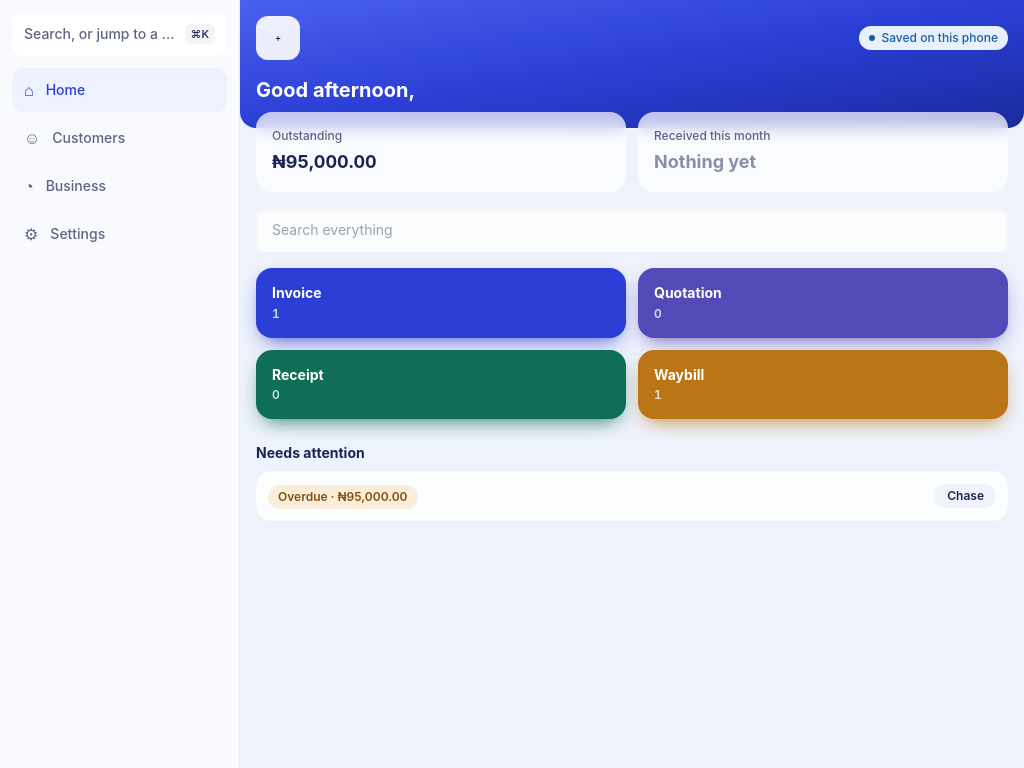
Home search replaces the body with results (§G, §D.3) › offers suggestions that work when nothing matched
Type "zzzz" into the search field labelled "Search everything".
click(632, 230); type("zzzz")  # box [256,208,1008,252]
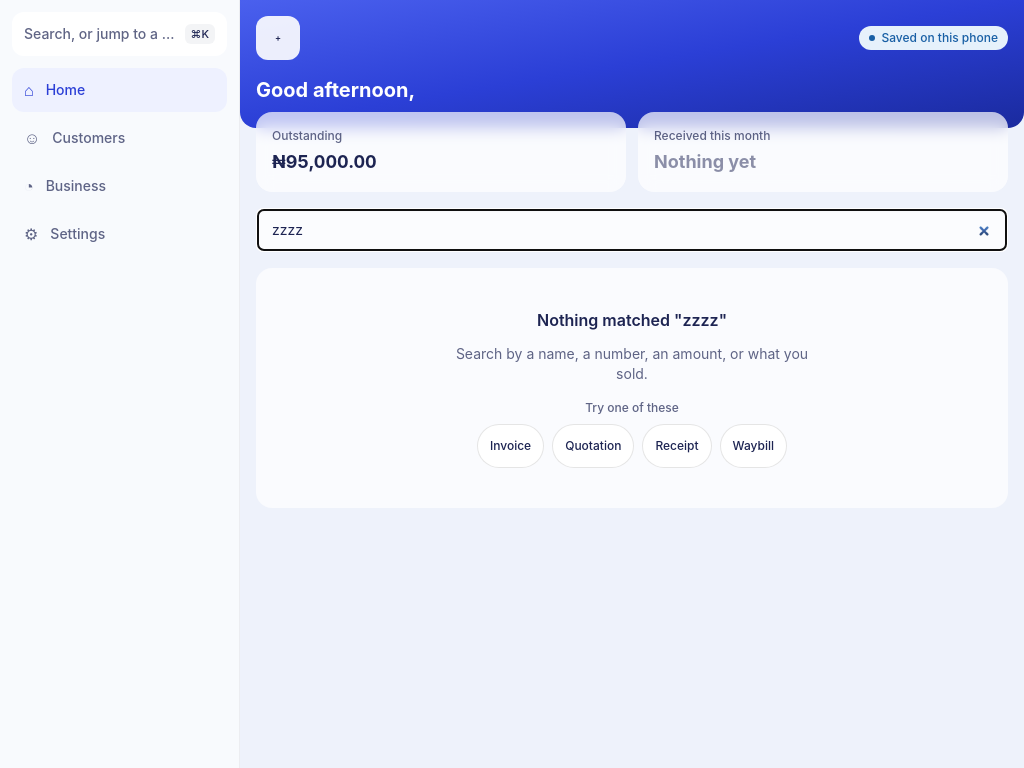
Check: the text "Nothing matched \"zzzz\"" is shown, box [537,308,727,332]
Click the button "Waybill".
click(753, 446)  # box [720,424,787,468]
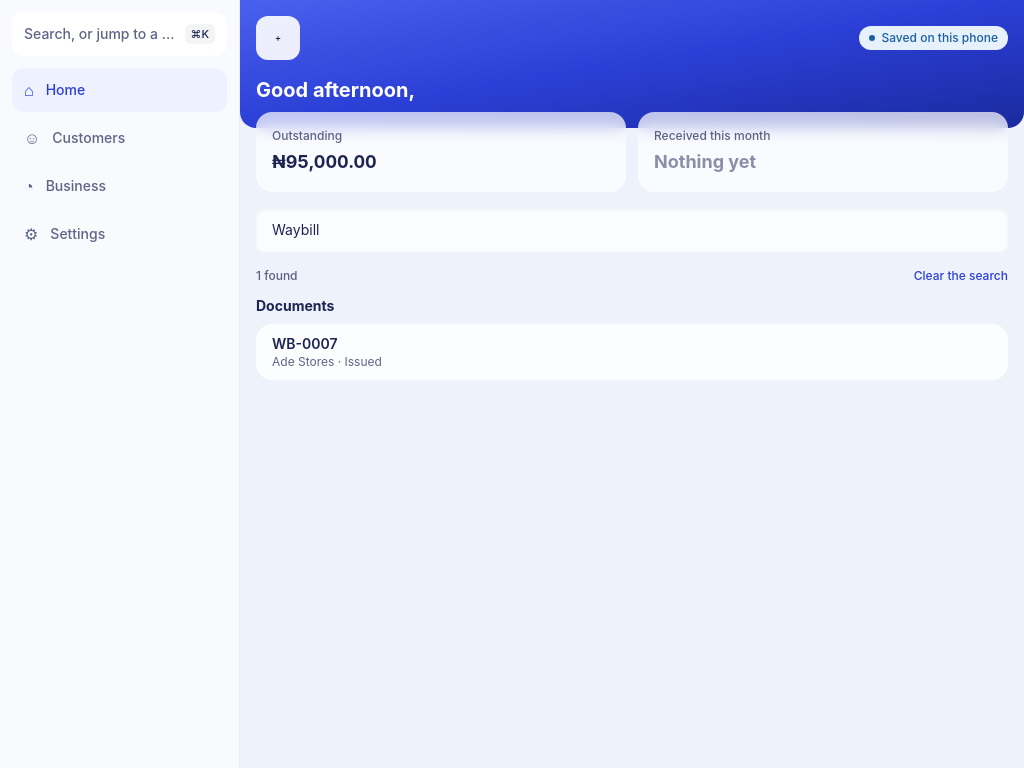
Check: the text "WB-0007" is shown, box [272,335,338,352]
